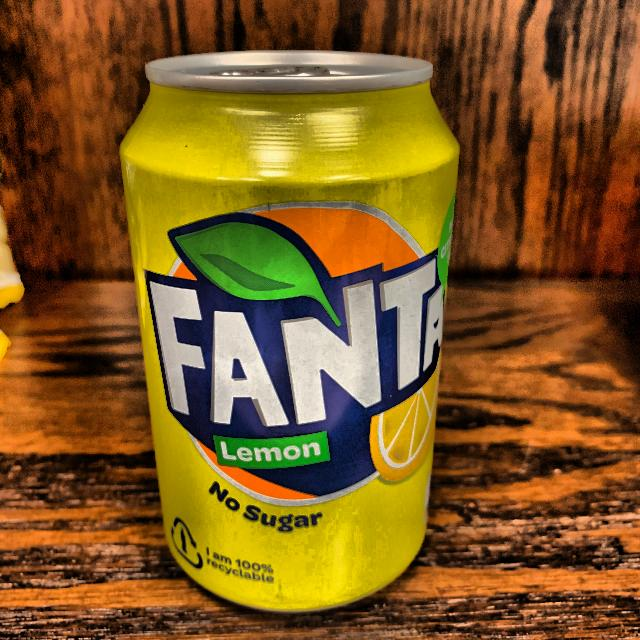Cans: (111, 26, 477, 624)
